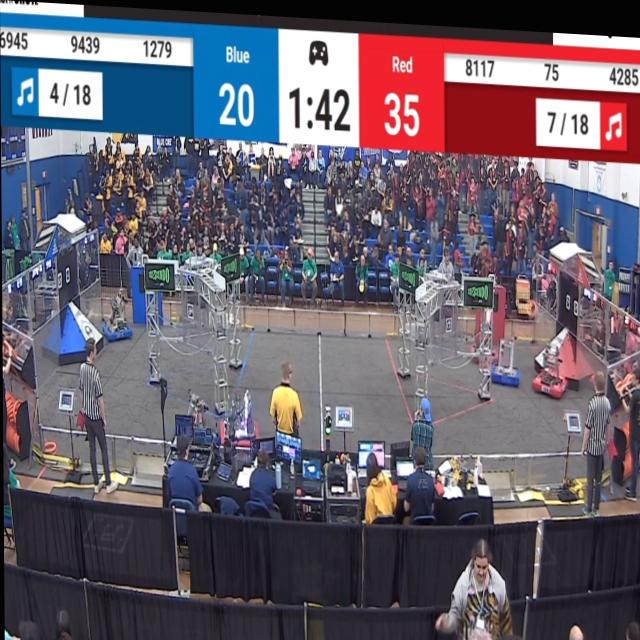Robot: (219, 378, 259, 450), (532, 327, 571, 397), (176, 382, 216, 440), (468, 301, 499, 363), (491, 324, 520, 387), (99, 288, 130, 344)
